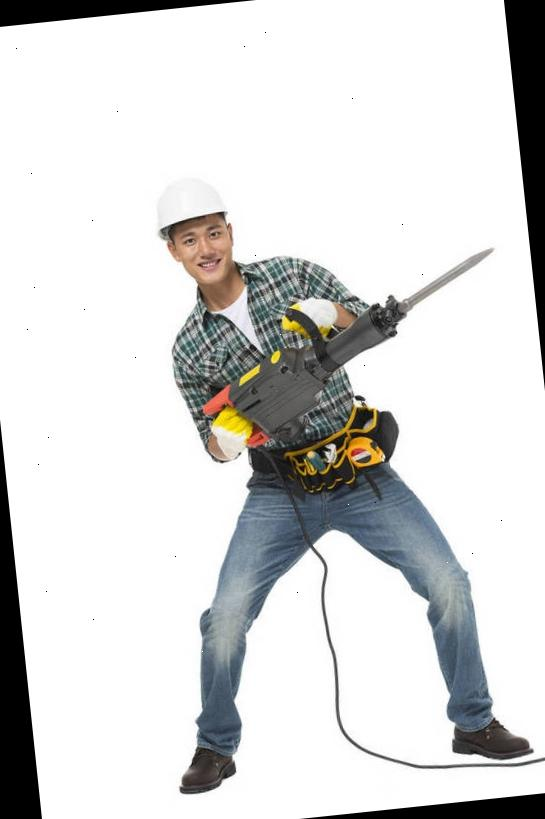helmet: (146, 166, 230, 240)
no_wear: (168, 271, 361, 475)
